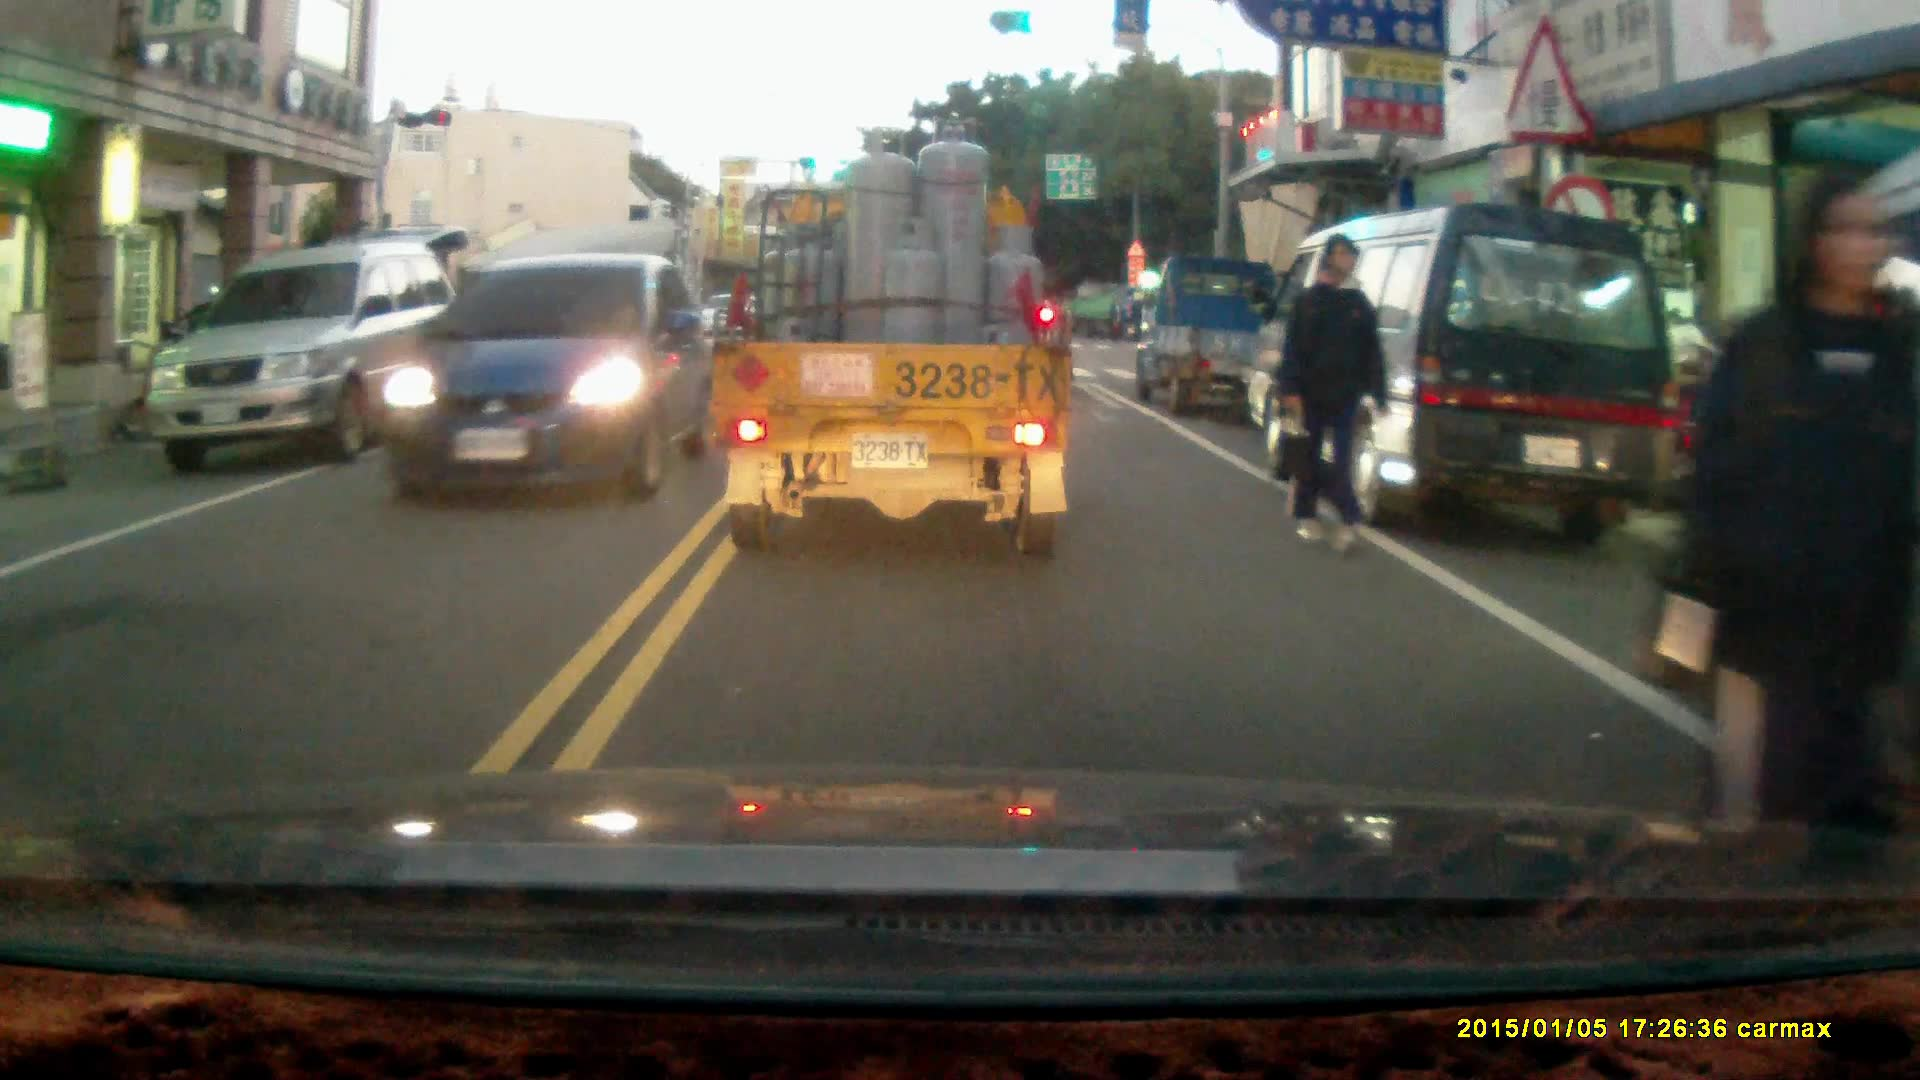pedestrian: (1676, 172, 1891, 896), (1278, 234, 1391, 558)
vehicle: (711, 119, 1075, 547), (1251, 199, 1674, 549), (379, 252, 727, 501), (148, 242, 468, 473), (367, 290, 568, 419), (1124, 247, 1272, 408)
